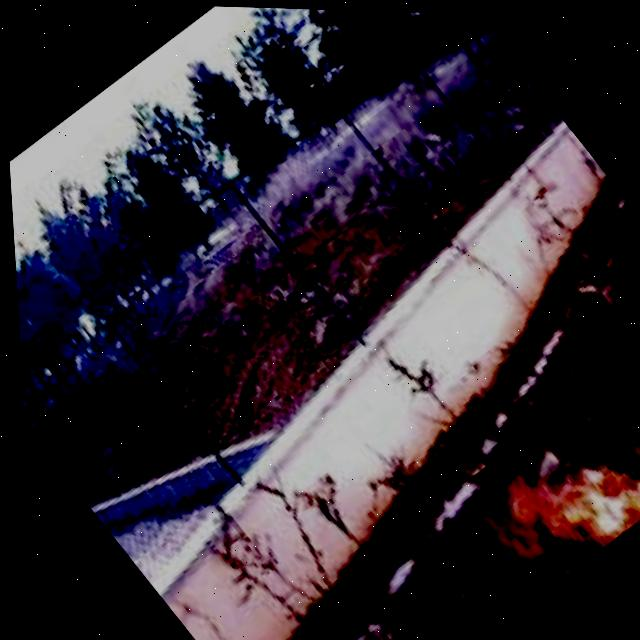Fire: (459, 378, 640, 592)
